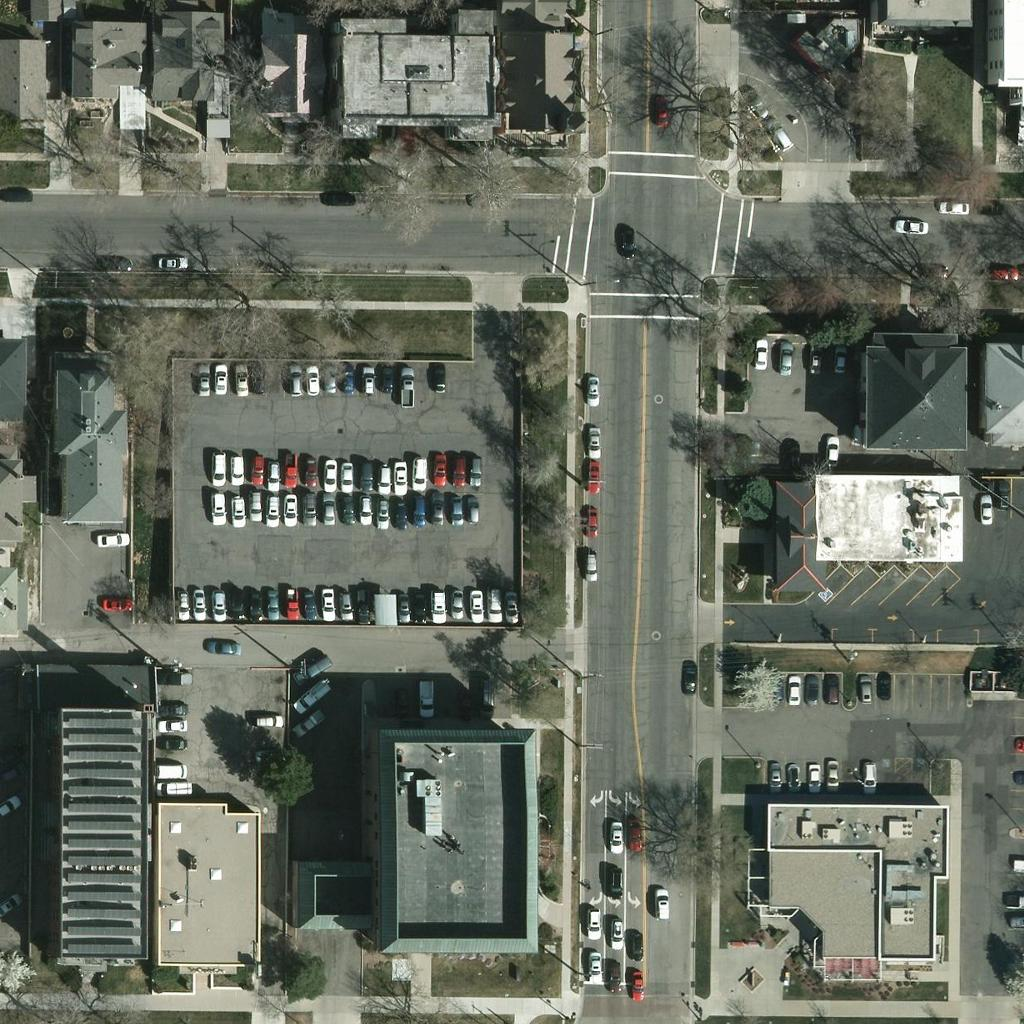car: (737, 83, 771, 117), (643, 96, 677, 130), (762, 118, 796, 152), (2, 176, 36, 210), (322, 180, 356, 214), (972, 188, 1006, 222), (939, 191, 973, 225), (896, 209, 930, 243), (609, 222, 643, 256), (92, 245, 126, 279), (153, 246, 187, 280), (913, 254, 947, 288), (984, 256, 1018, 290), (743, 338, 777, 372), (768, 342, 802, 376), (799, 342, 833, 376), (823, 342, 857, 376), (420, 357, 454, 391), (203, 360, 237, 394), (240, 360, 274, 394), (369, 360, 403, 394), (186, 362, 220, 396), (277, 362, 311, 396), (313, 362, 347, 396), (330, 362, 364, 396), (349, 362, 383, 396), (224, 364, 258, 398), (294, 364, 328, 398), (390, 364, 424, 398), (575, 373, 609, 407), (576, 423, 610, 457), (814, 436, 848, 470), (776, 441, 810, 475), (202, 450, 236, 484), (240, 450, 274, 484), (422, 450, 456, 484), (441, 450, 475, 484), (457, 450, 491, 484), (219, 452, 253, 486), (292, 452, 326, 486), (275, 455, 309, 489), (256, 456, 290, 490), (402, 456, 436, 490), (349, 457, 383, 491), (312, 458, 346, 492), (329, 458, 363, 492), (576, 459, 610, 493), (382, 460, 416, 494), (367, 463, 401, 497), (986, 481, 1020, 515), (238, 485, 272, 519), (202, 489, 236, 523), (438, 489, 472, 523), (219, 490, 253, 524), (329, 490, 363, 524), (348, 490, 382, 524), (253, 491, 287, 525), (273, 491, 307, 525), (291, 491, 325, 525), (401, 491, 435, 525), (419, 491, 453, 525), (366, 492, 400, 526), (313, 493, 347, 527), (456, 493, 490, 527), (383, 494, 417, 528), (969, 495, 1003, 529), (574, 503, 608, 537), (96, 520, 130, 554), (573, 548, 607, 582), (220, 585, 254, 619), (290, 585, 324, 619), (98, 586, 132, 620), (165, 586, 199, 620), (182, 586, 216, 620), (201, 586, 235, 620), (254, 586, 288, 620), (312, 586, 346, 620), (328, 586, 362, 620), (439, 586, 473, 620), (458, 586, 492, 620), (236, 587, 270, 621), (274, 587, 308, 621), (493, 587, 527, 621), (495, 587, 529, 621), (419, 588, 453, 622), (478, 588, 512, 622), (385, 589, 419, 623), (346, 590, 380, 624), (401, 590, 435, 624), (206, 629, 240, 663), (292, 653, 326, 687), (672, 659, 706, 693), (866, 670, 900, 704), (795, 672, 829, 706), (847, 672, 881, 706), (777, 673, 811, 707), (814, 674, 848, 708), (759, 675, 793, 709), (469, 682, 503, 716), (290, 683, 324, 717), (408, 683, 442, 717), (384, 684, 418, 718), (447, 685, 481, 719), (153, 691, 187, 725), (251, 703, 285, 737), (290, 706, 324, 740), (155, 707, 189, 741), (155, 725, 189, 759), (158, 753, 192, 787), (813, 757, 847, 791), (757, 759, 791, 793), (795, 759, 829, 793), (851, 759, 885, 793), (777, 762, 811, 796), (154, 771, 188, 805), (619, 815, 653, 849), (599, 820, 633, 854), (599, 861, 633, 895), (646, 890, 680, 924), (574, 900, 608, 934), (599, 912, 633, 946), (619, 927, 653, 961), (578, 947, 612, 981), (598, 957, 632, 991), (619, 964, 653, 998), (0, 754, 28, 788), (0, 738, 27, 772), (0, 890, 21, 924), (0, 792, 20, 826)
